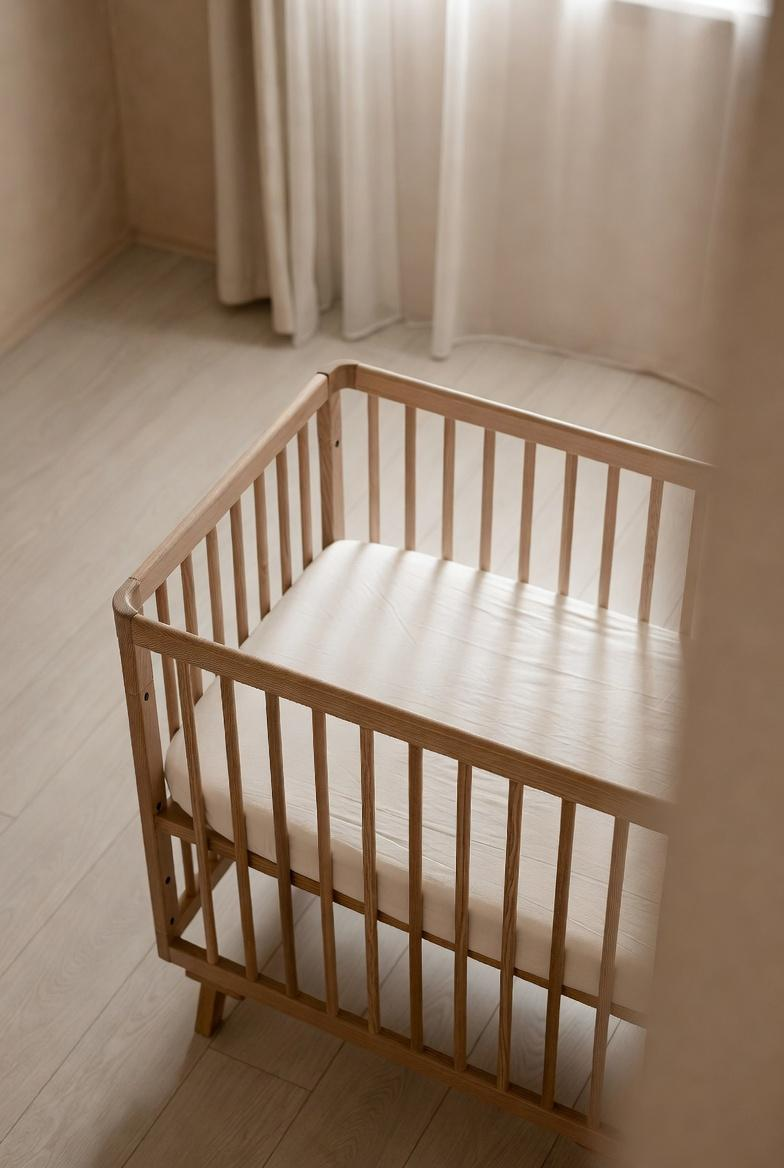crib: (114, 363, 709, 1154)
